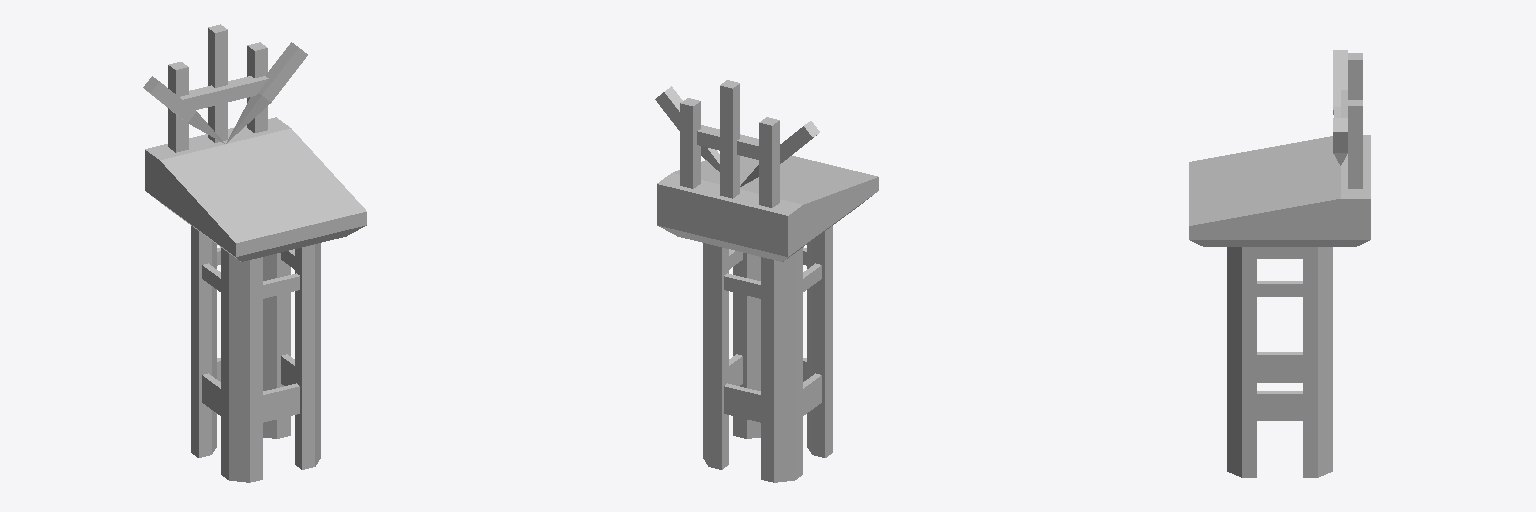
The model's file is materia_manifest.obj.
3 views of the same model, side by side, from view 1: azimuth 30°, elevation 25°; view 2: azimuth 150°, elevation 25°; view 3: azimuth 270°, elevation 25° (orthographic).
Parts seen in each view (by area): view 1: TABLE_LEGS.001_Cube.036, THESIS_MAIN_Cube.035, THESIS_VELLUM_Cube.042; view 2: TABLE_LEGS.001_Cube.036, THESIS_MAIN_Cube.035, THESIS_VELLUM_Cube.042; view 3: TABLE_LEGS.001_Cube.036, THESIS_MAIN_Cube.035, THESIS_VELLUM_Cube.042.
Boxes of the visible parts, <box> form: TABLE_LEGS.001_Cube.036: <box>191,226,320,482</box>; THESIS_MAIN_Cube.035: <box>143,24,366,261</box>; THESIS_VELLUM_Cube.042: <box>206,147,322,219</box>; TABLE_LEGS.001_Cube.036: <box>703,226,832,482</box>; THESIS_MAIN_Cube.035: <box>655,80,878,261</box>; THESIS_VELLUM_Cube.042: <box>718,158,834,187</box>; TABLE_LEGS.001_Cube.036: <box>1227,247,1332,477</box>; THESIS_MAIN_Cube.035: <box>1189,50,1370,246</box>; THESIS_VELLUM_Cube.042: <box>1211,152,1314,201</box>.
Bounding box in the file's own units: 0.7513 × 1.81 × 0.75.